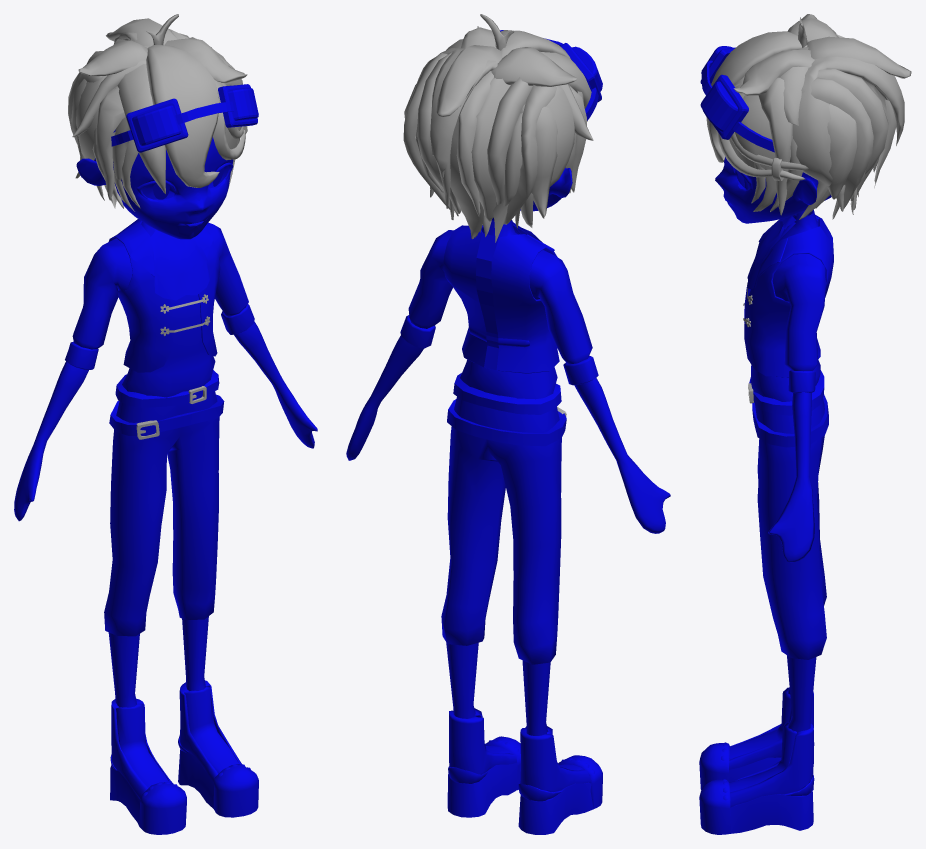
Rendered from Final_Male_Mesh.fbx.
3 renders of one model, left to right at view 1: azimuth 30°, elevation 25°; view 2: azimuth 150°, elevation 25°; view 3: azimuth 270°, elevation 25°, orthographic. The views are drawn at different scales.
Parts seen in each view (by area): view 1: Male_Protagonist; view 2: Male_Protagonist; view 3: Male_Protagonist.
Part boxes in pixels (box(x1,y1,x2,y2)): Male_Protagonist: box(14, 14, 317, 834); Male_Protagonist: box(346, 14, 670, 834); Male_Protagonist: box(699, 14, 911, 834).
Size of the model in its own units: 125 by 308 by 74.8.
